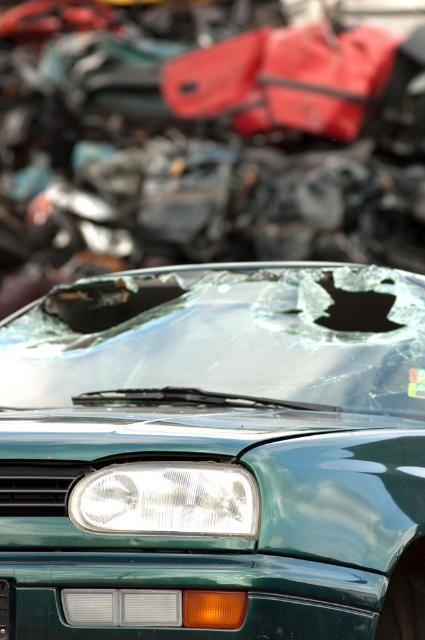glass shatter: (0, 266, 425, 421)
